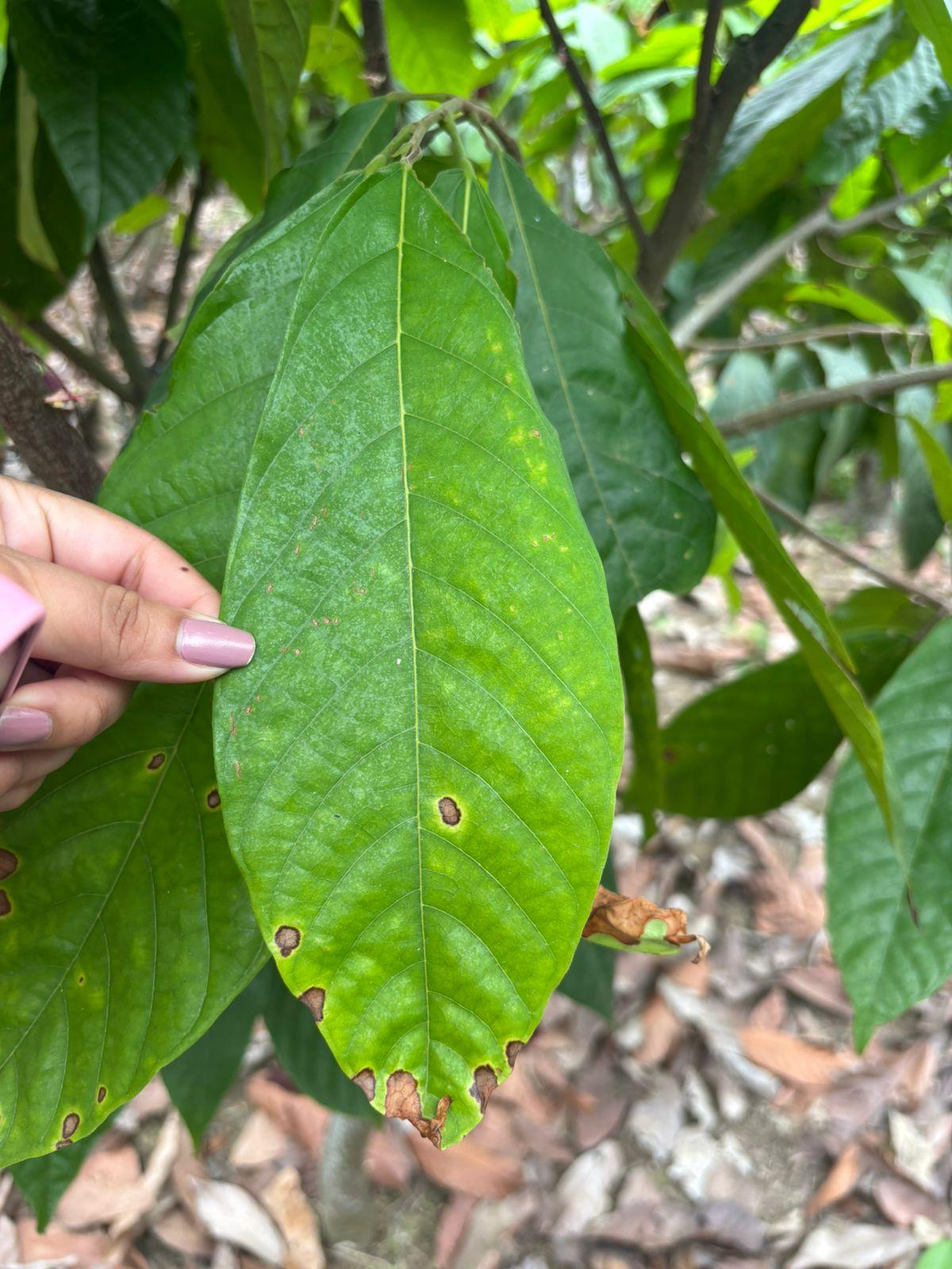deficiencia_potasio: (213, 167, 623, 1146)
